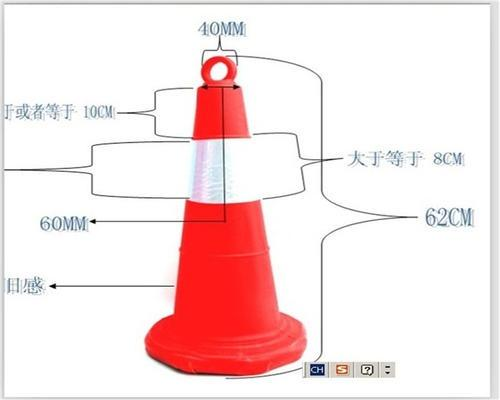cone_barrel: (152, 66, 300, 369)
